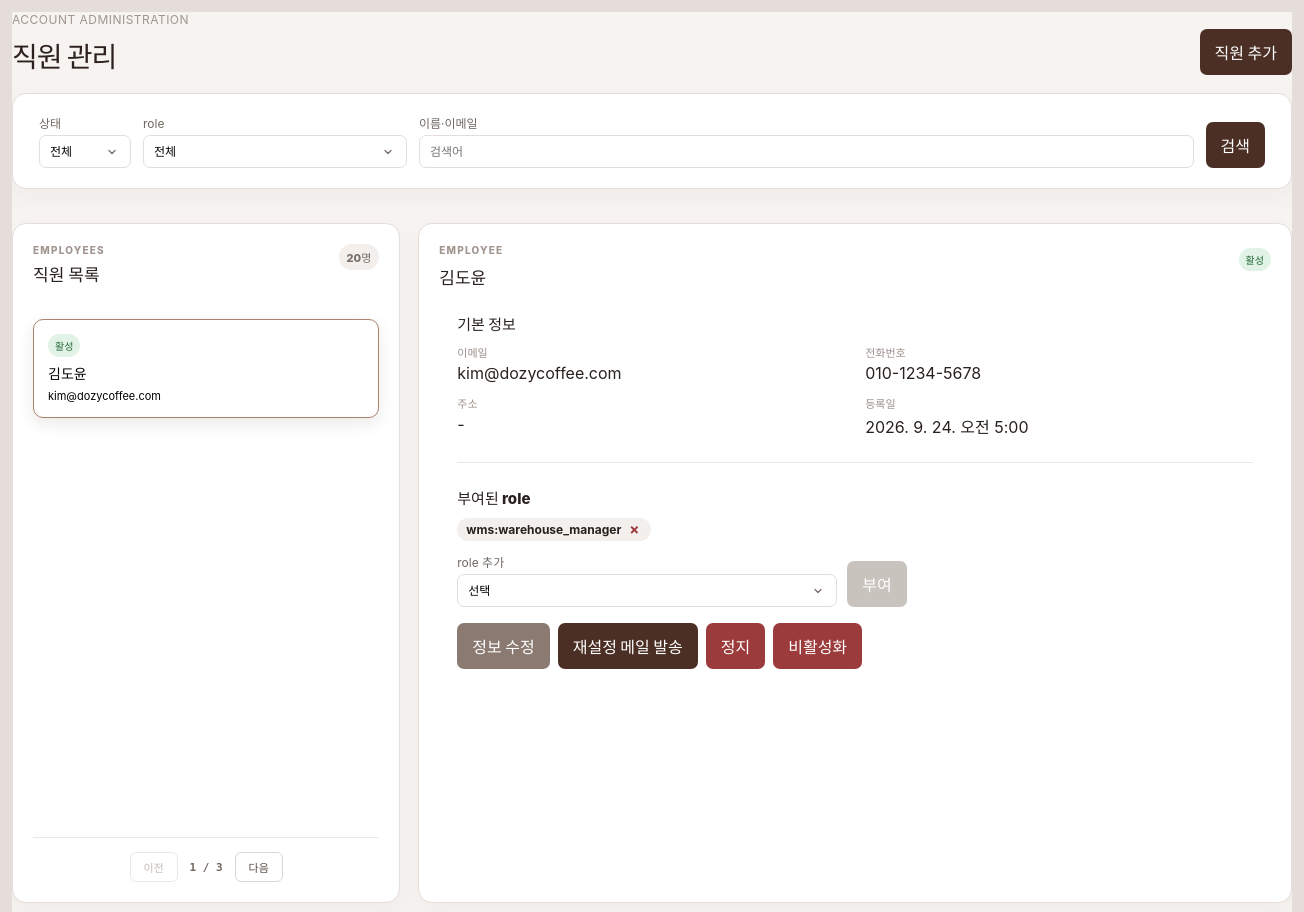
Test case: EmployeesPage › 현재 페이지가 마지막 페이지를 넘으면(필터에서 빠진 경우 등) 마지막 페이지로 되돌린다
Step 1. Click the button "다음" → (259, 867), box [235,852,283,882]
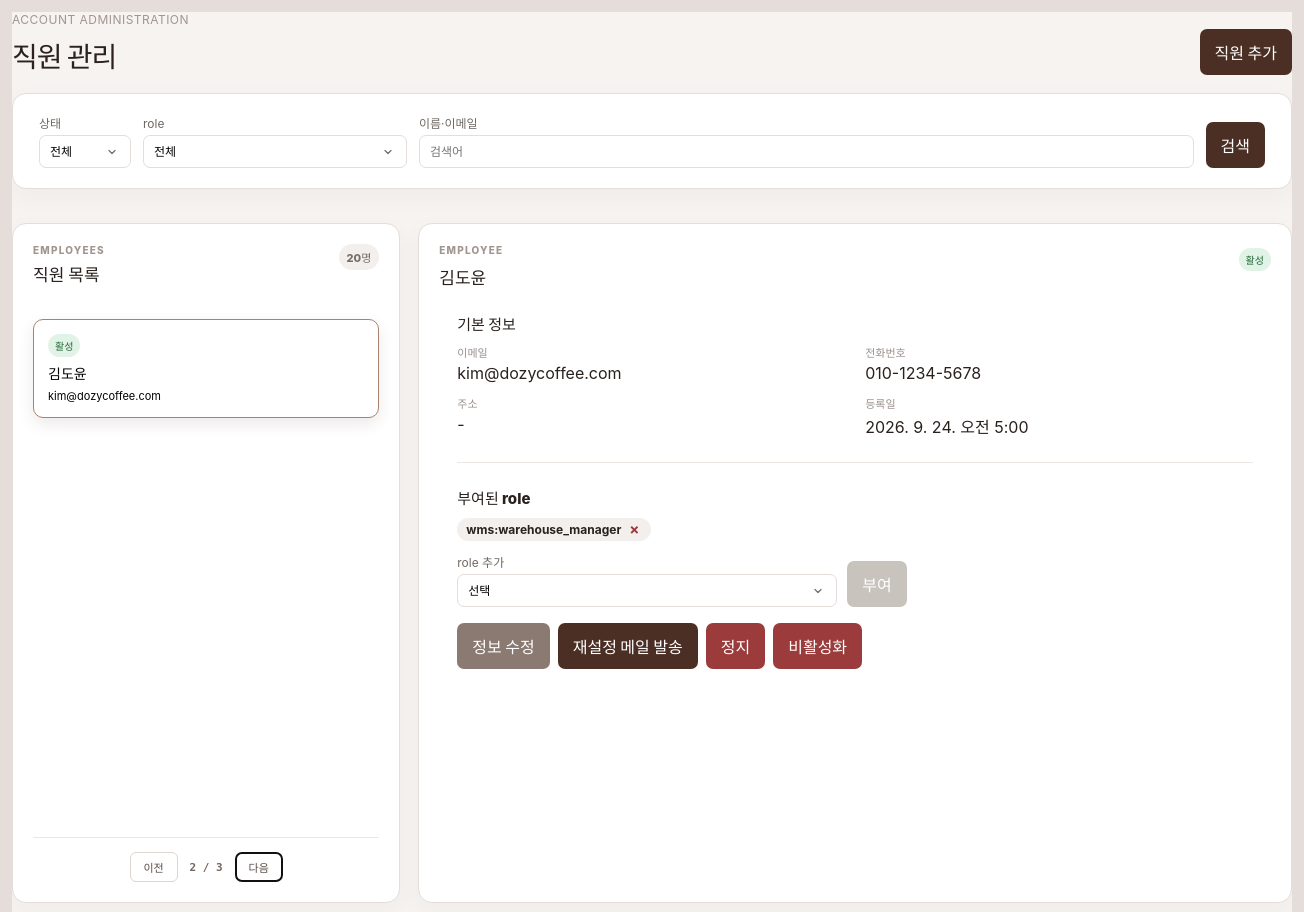
Expected: the text "2 / 3" is shown, [190,860,223,874]
Step 2. Click the button "다음" → (259, 867), box [235,852,283,882]
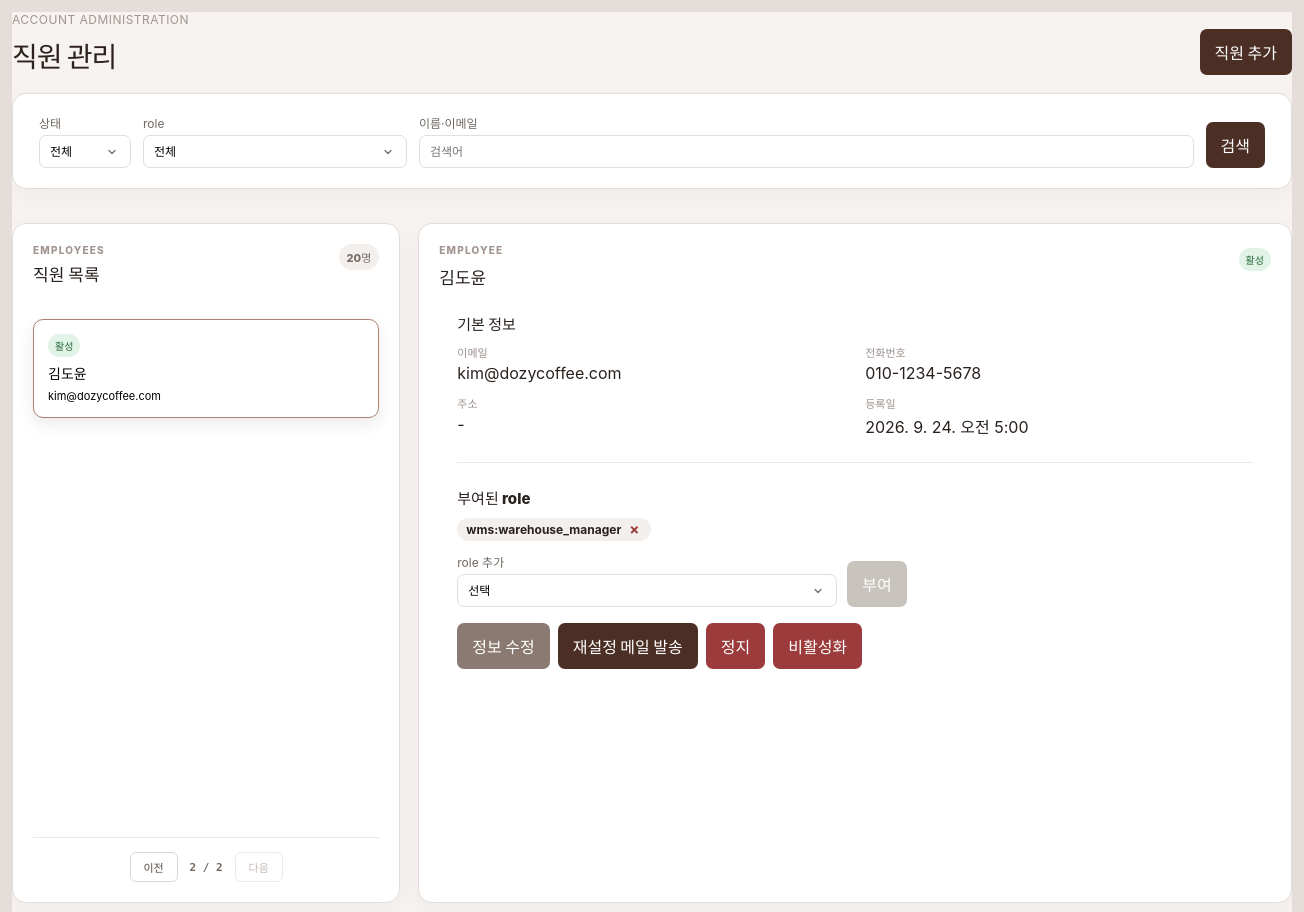
Expected: the text "2 / 2" is shown, [190,860,223,874]
